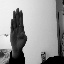b: (7, 6, 29, 56)
